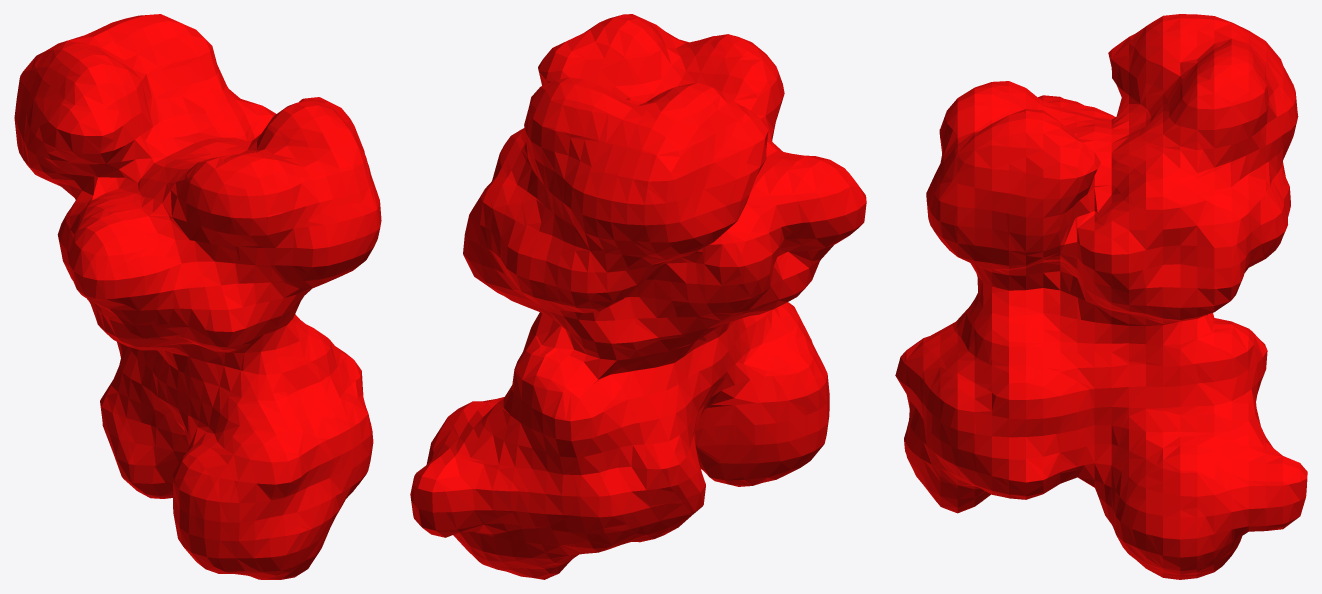
The model's file is modE_coarse.dae.
3 views of the same model, side by side, from view 1: azimuth 30°, elevation 25°; view 2: azimuth 150°, elevation 25°; view 3: azimuth 270°, elevation 25° (orthographic). The views are drawn at different scales.
Parts seen in each view (by area): view 1: modE; view 2: modE; view 3: modE.
Part boxes in pixels (left/top/right/bottom): modE: left=14, top=14, right=381, bottom=579; modE: left=410, top=14, right=866, bottom=579; modE: left=895, top=14, right=1307, bottom=579.
Bounding box in the file's own units: 57.89 × 84.07 × 64.26.
